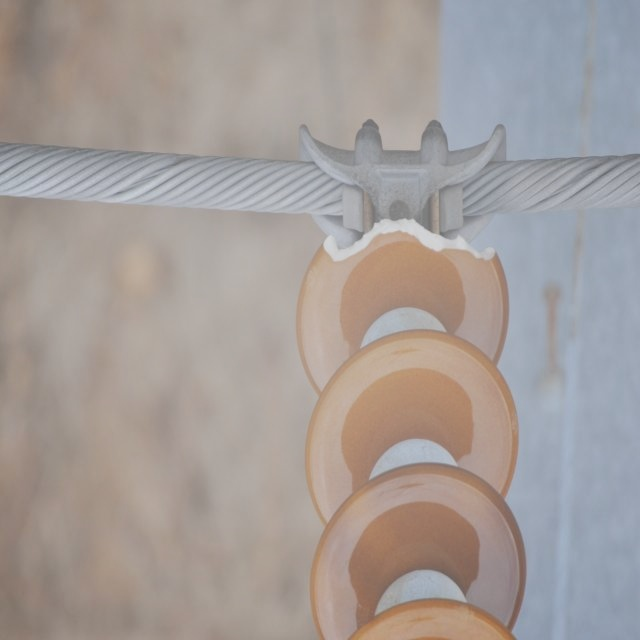broken: (323, 214, 498, 276)
insulator: (295, 217, 528, 640)
